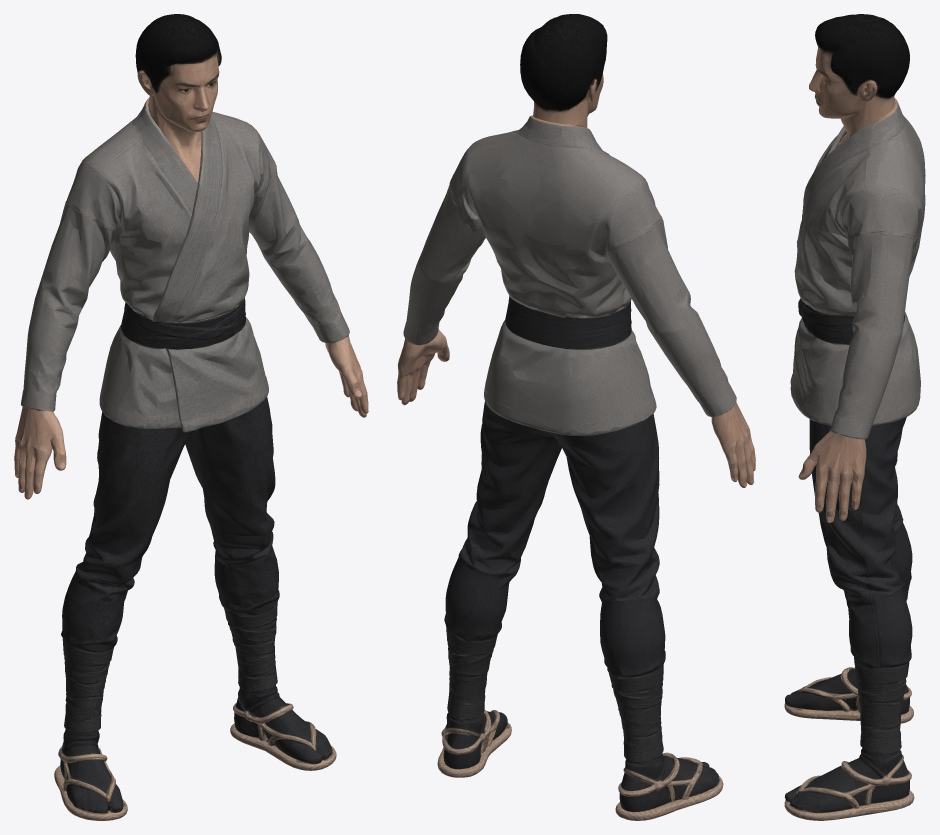
Rendered from base_male_image.glb.
The picture shows the model from 3 angles, left to right: view 1: azimuth 30°, elevation 25°; view 2: azimuth 150°, elevation 25°; view 3: azimuth 270°, elevation 25°; orthographic projection. The views are drawn at different scales.
Bounding box in the file's own units: 0.9062 × 1.9 × 0.3281.
1 material, 1 textured.
